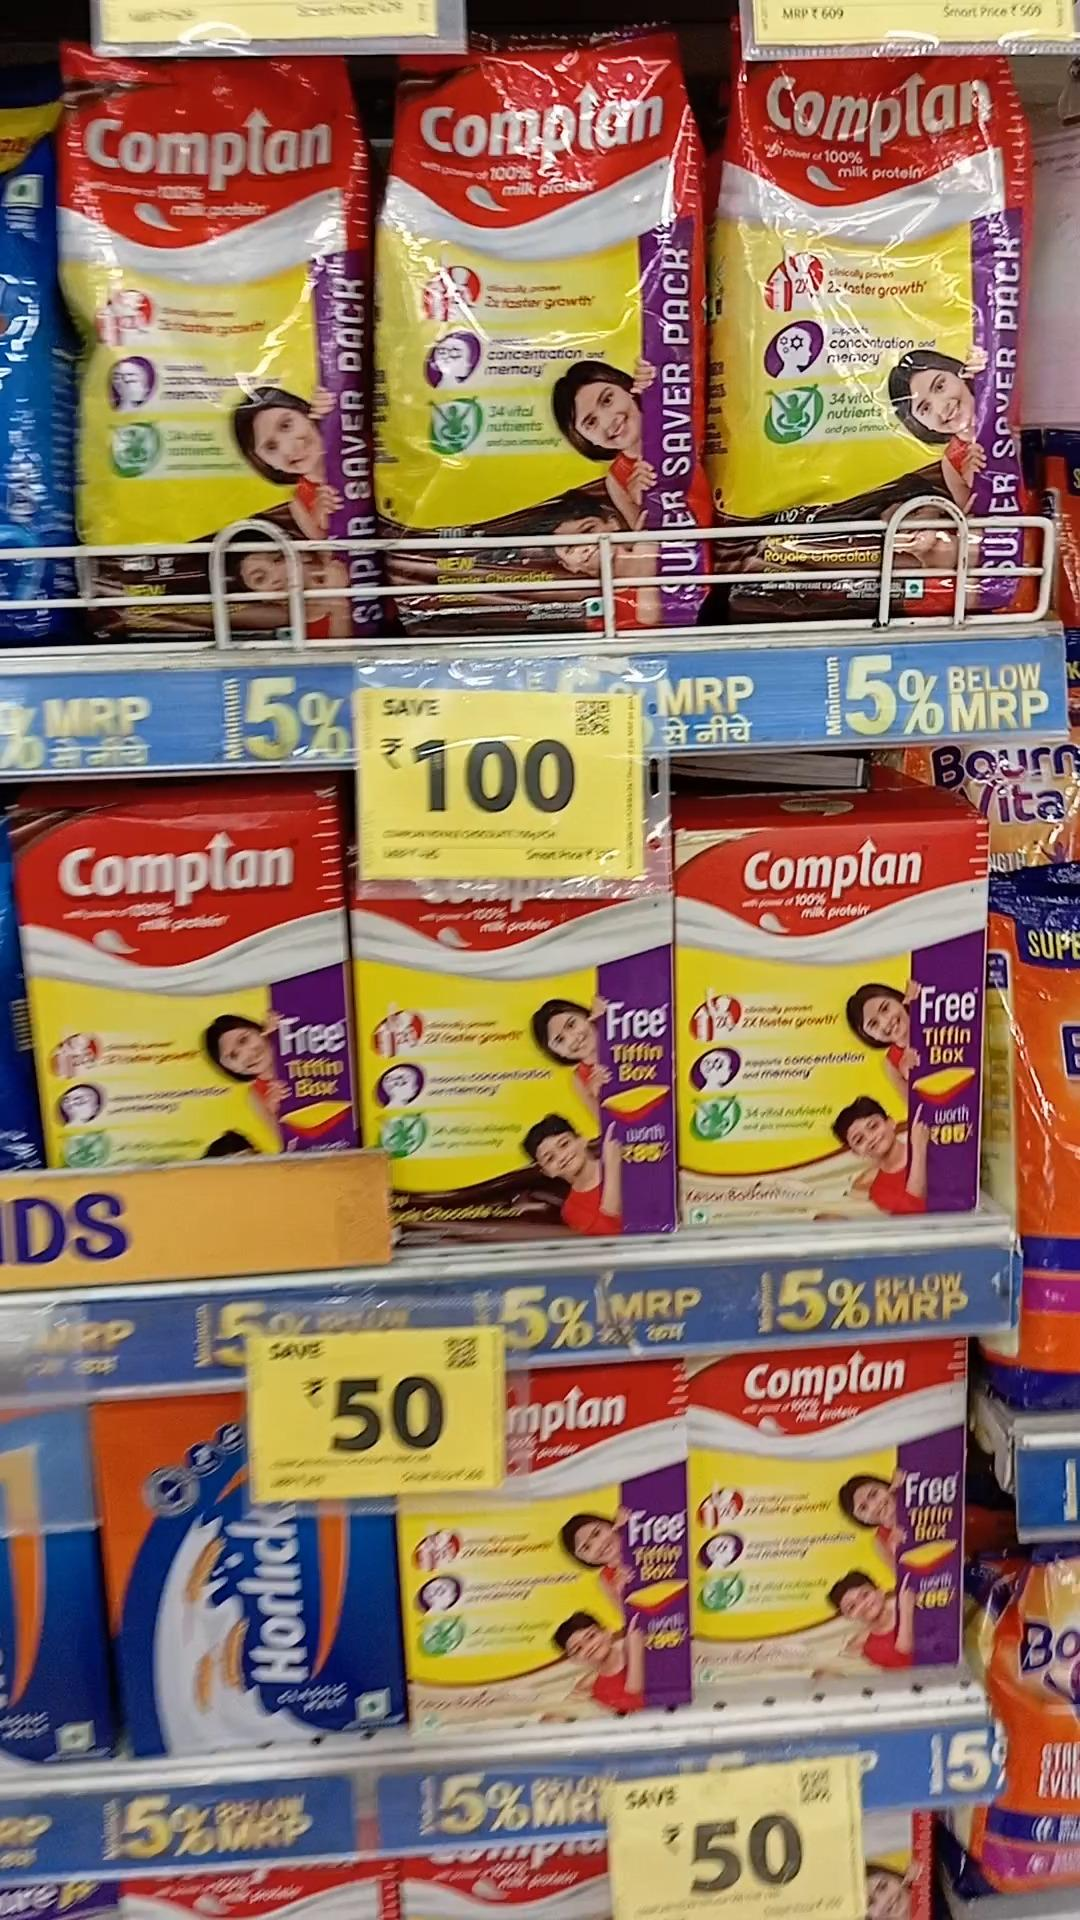COMPLAN_CHOCOLATE_500_GMS_PACK: (360, 872, 671, 1247), (37, 798, 349, 1166)
COMPLAN_KESAR_BADAM_500_GMS_PACK: (684, 824, 982, 1222), (401, 1369, 682, 1714), (690, 1349, 972, 1677)
COMPLAN_RC_POUCH_700_GMS_12: (384, 57, 709, 626), (57, 53, 375, 632), (719, 58, 1034, 608)
HORLICK_CLASSIC_MALT_500_G_PACK: (107, 1400, 396, 1745)
